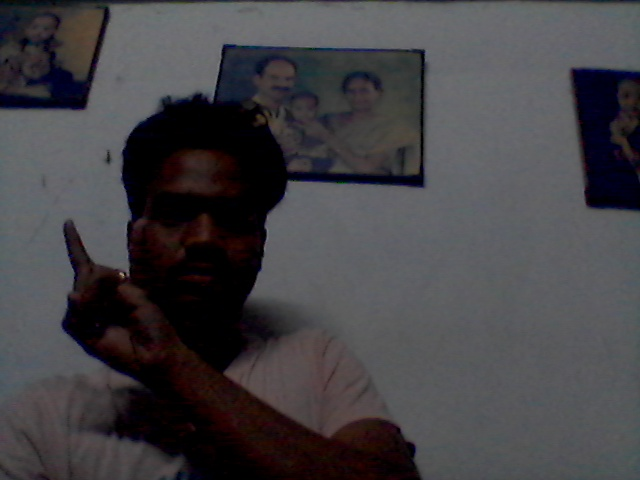I Love You: (60, 213, 173, 380)
